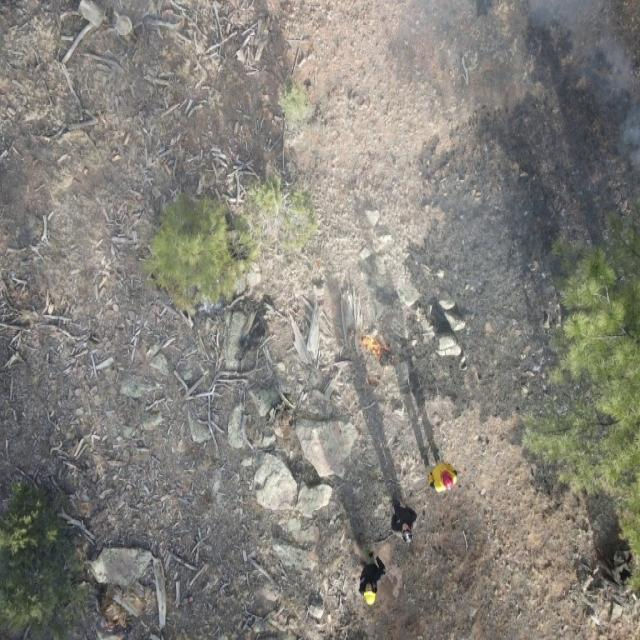fire: (347, 327, 392, 369), (104, 610, 122, 634)
smoke: (527, 0, 640, 178)
